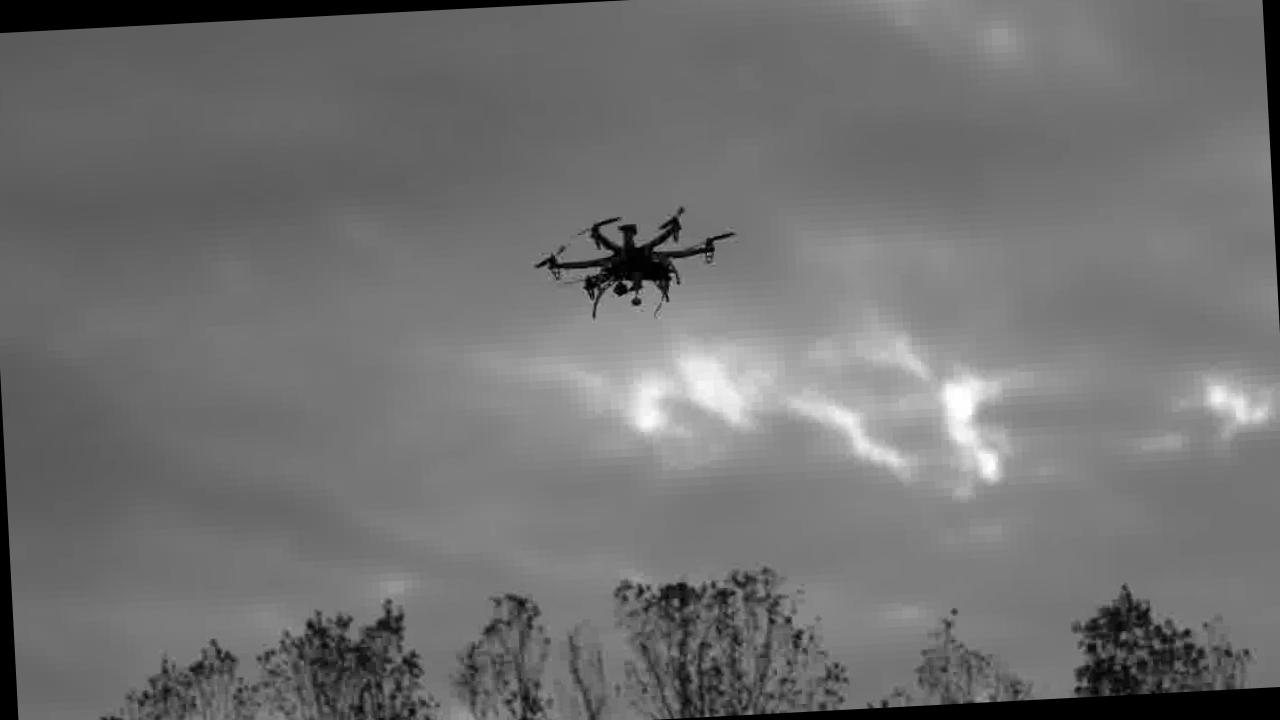drone: (537, 202, 732, 325)
